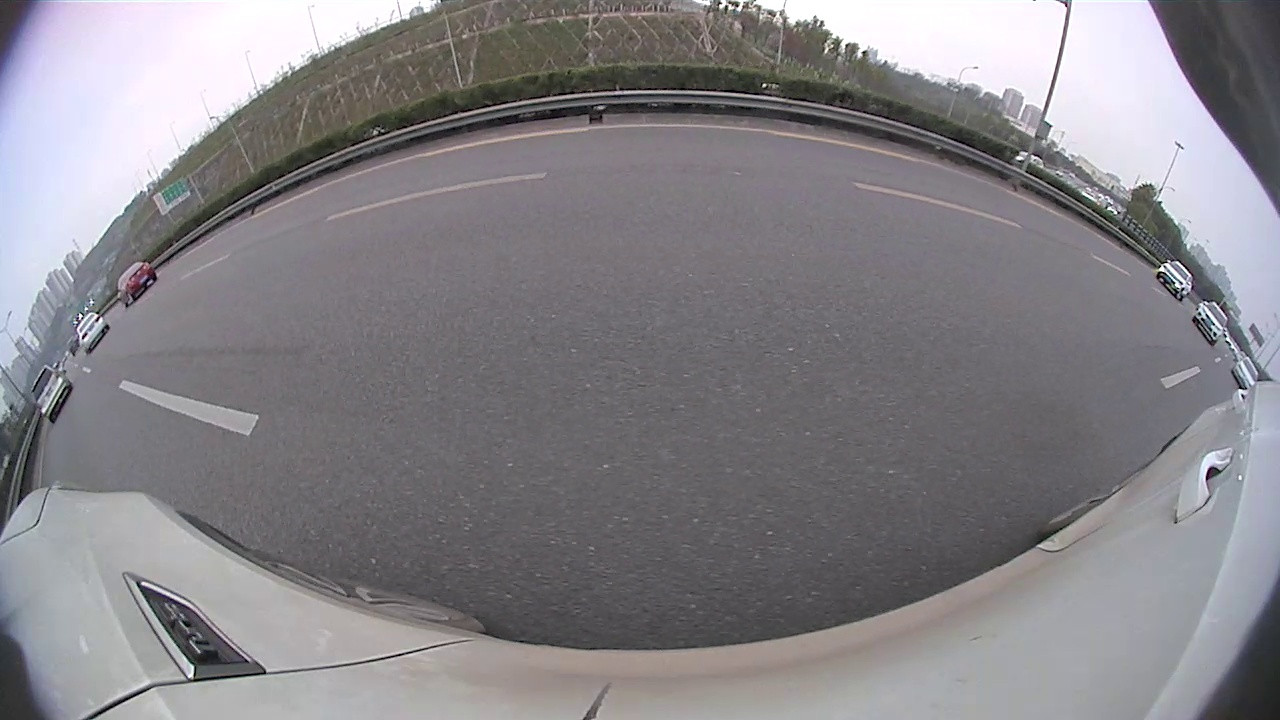bus: (772, 126, 898, 177)
car: (1, 170, 404, 515), (903, 172, 1279, 438), (581, 112, 777, 249), (443, 152, 557, 220), (825, 159, 932, 222), (775, 152, 826, 209), (547, 154, 586, 192)
front: (346, 217, 396, 294), (917, 218, 962, 274), (822, 184, 838, 204)
rear: (38, 380, 150, 514), (1131, 331, 1214, 427), (520, 184, 535, 213), (869, 193, 884, 217)
